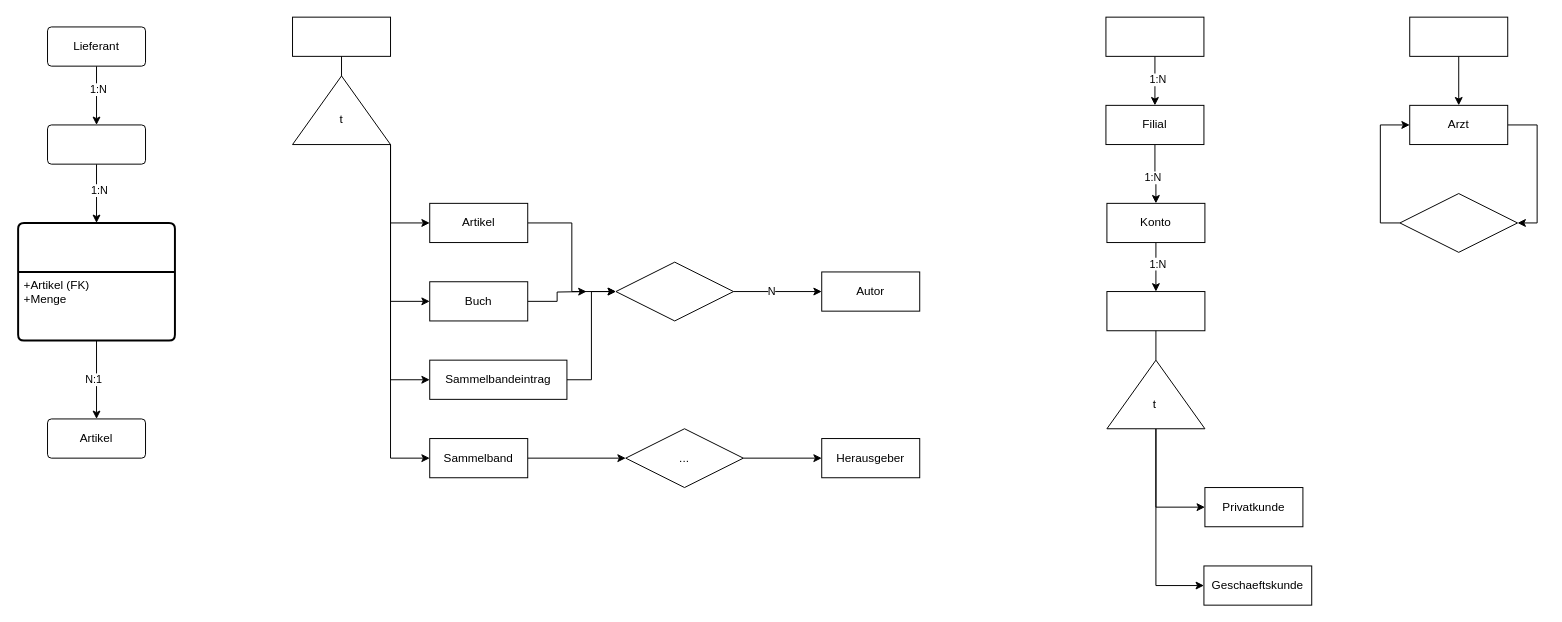
Some shapes in this 1562 by 622 pixel diagram are drawn without their labels. The shapes that lost their labels are listed below. From the top down, each one's box as (x1, y1, x2, y2) in pixels, then its label:
(292, 16, 391, 56): Veroeffentlichung
(1105, 16, 1204, 56): Kreditinstitut
(1409, 16, 1508, 56): Operation
(47, 124, 146, 164): Auftrag
(1399, 193, 1518, 252): assistiert
(17, 221, 175, 341): Auftragsposition
(615, 261, 734, 321): verfasst von
(1106, 291, 1205, 331): Kontoinhaber
